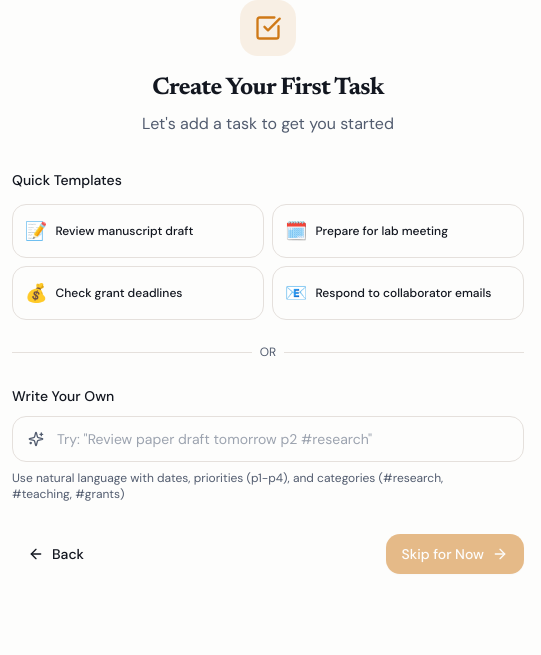
StepFirstTask › shows Create Task button when text is entered
Step 1. Type "My custom task" into the field labelled "Write Your Own" → (268, 439), box [12,416,524,462]
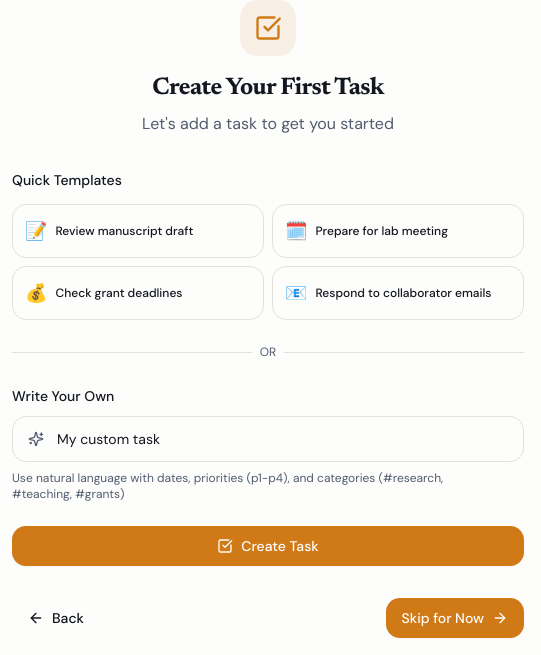
Check: the button "Create Task" is shown, box [12,526,524,566]
